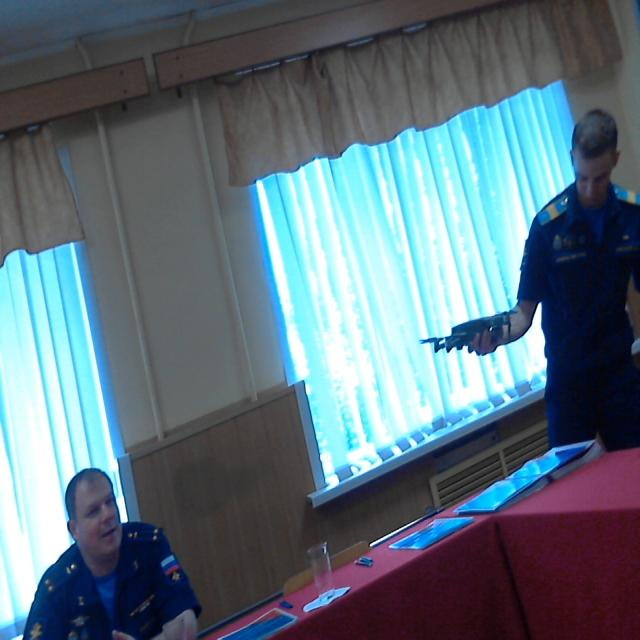drone: (416, 292, 520, 359)
